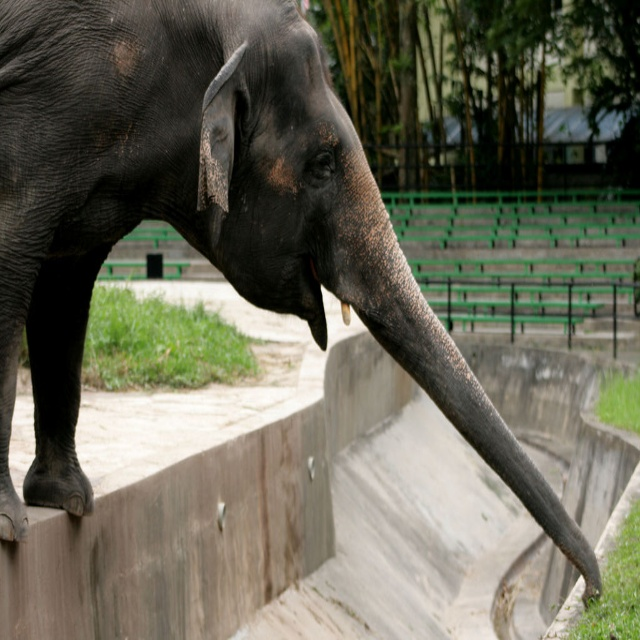Elephant: (0, 0, 603, 608)
